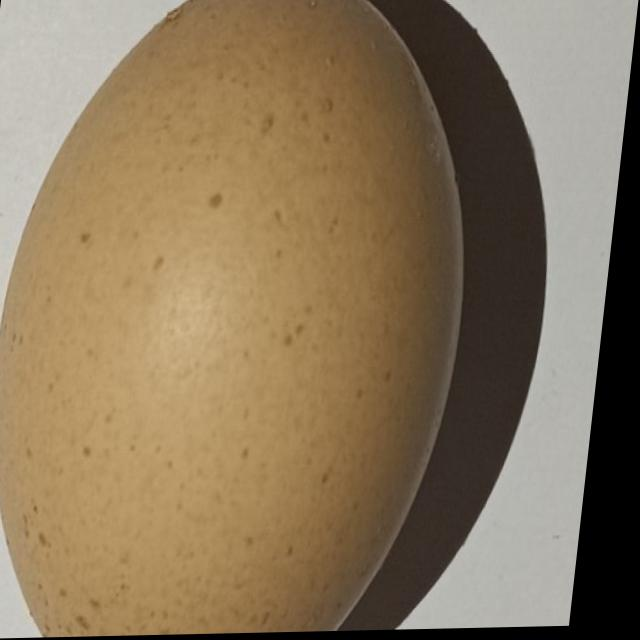unfresh: (0, 0, 514, 640)
